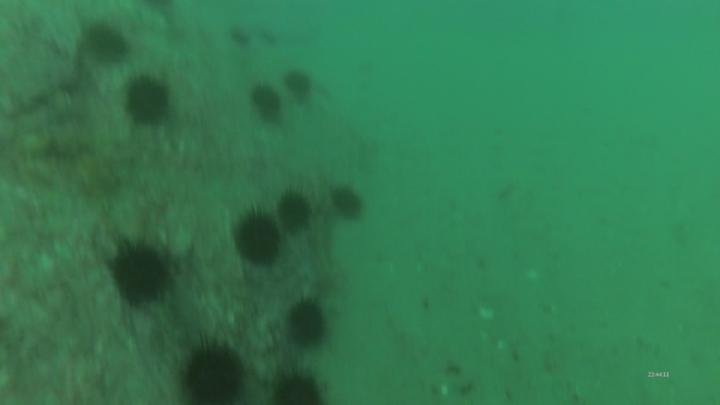echinus: (175, 336, 251, 405), (103, 238, 174, 310), (228, 207, 286, 272), (120, 72, 175, 129), (78, 16, 132, 69), (265, 365, 334, 405), (285, 296, 332, 353), (272, 188, 317, 238), (328, 181, 370, 224), (248, 80, 287, 123), (278, 66, 316, 107), (225, 23, 255, 52)
